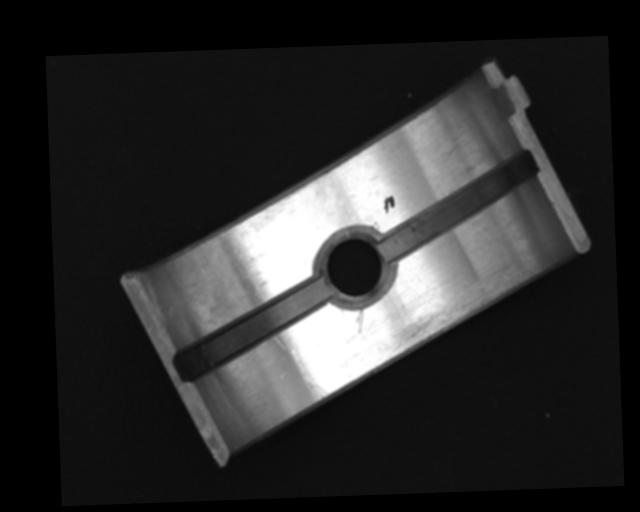blot: (383, 194, 395, 213)
gap: (378, 150, 542, 259), (170, 278, 330, 379)
hole: (313, 226, 397, 309)
nick: (290, 346, 329, 399), (355, 309, 364, 333)
scratch: (387, 268, 540, 356)
